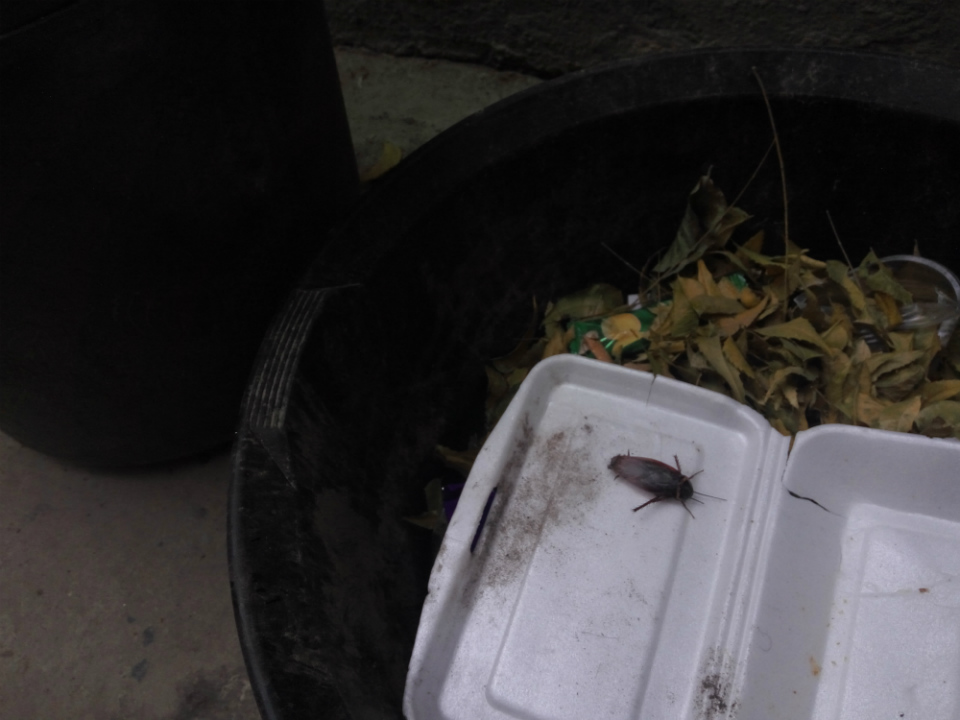cockroach: (581, 431, 734, 530)
